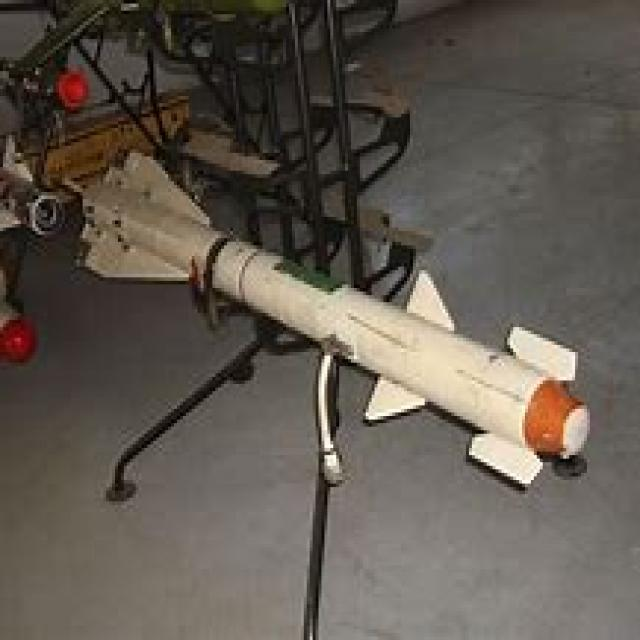missile: (76, 150, 594, 492)
